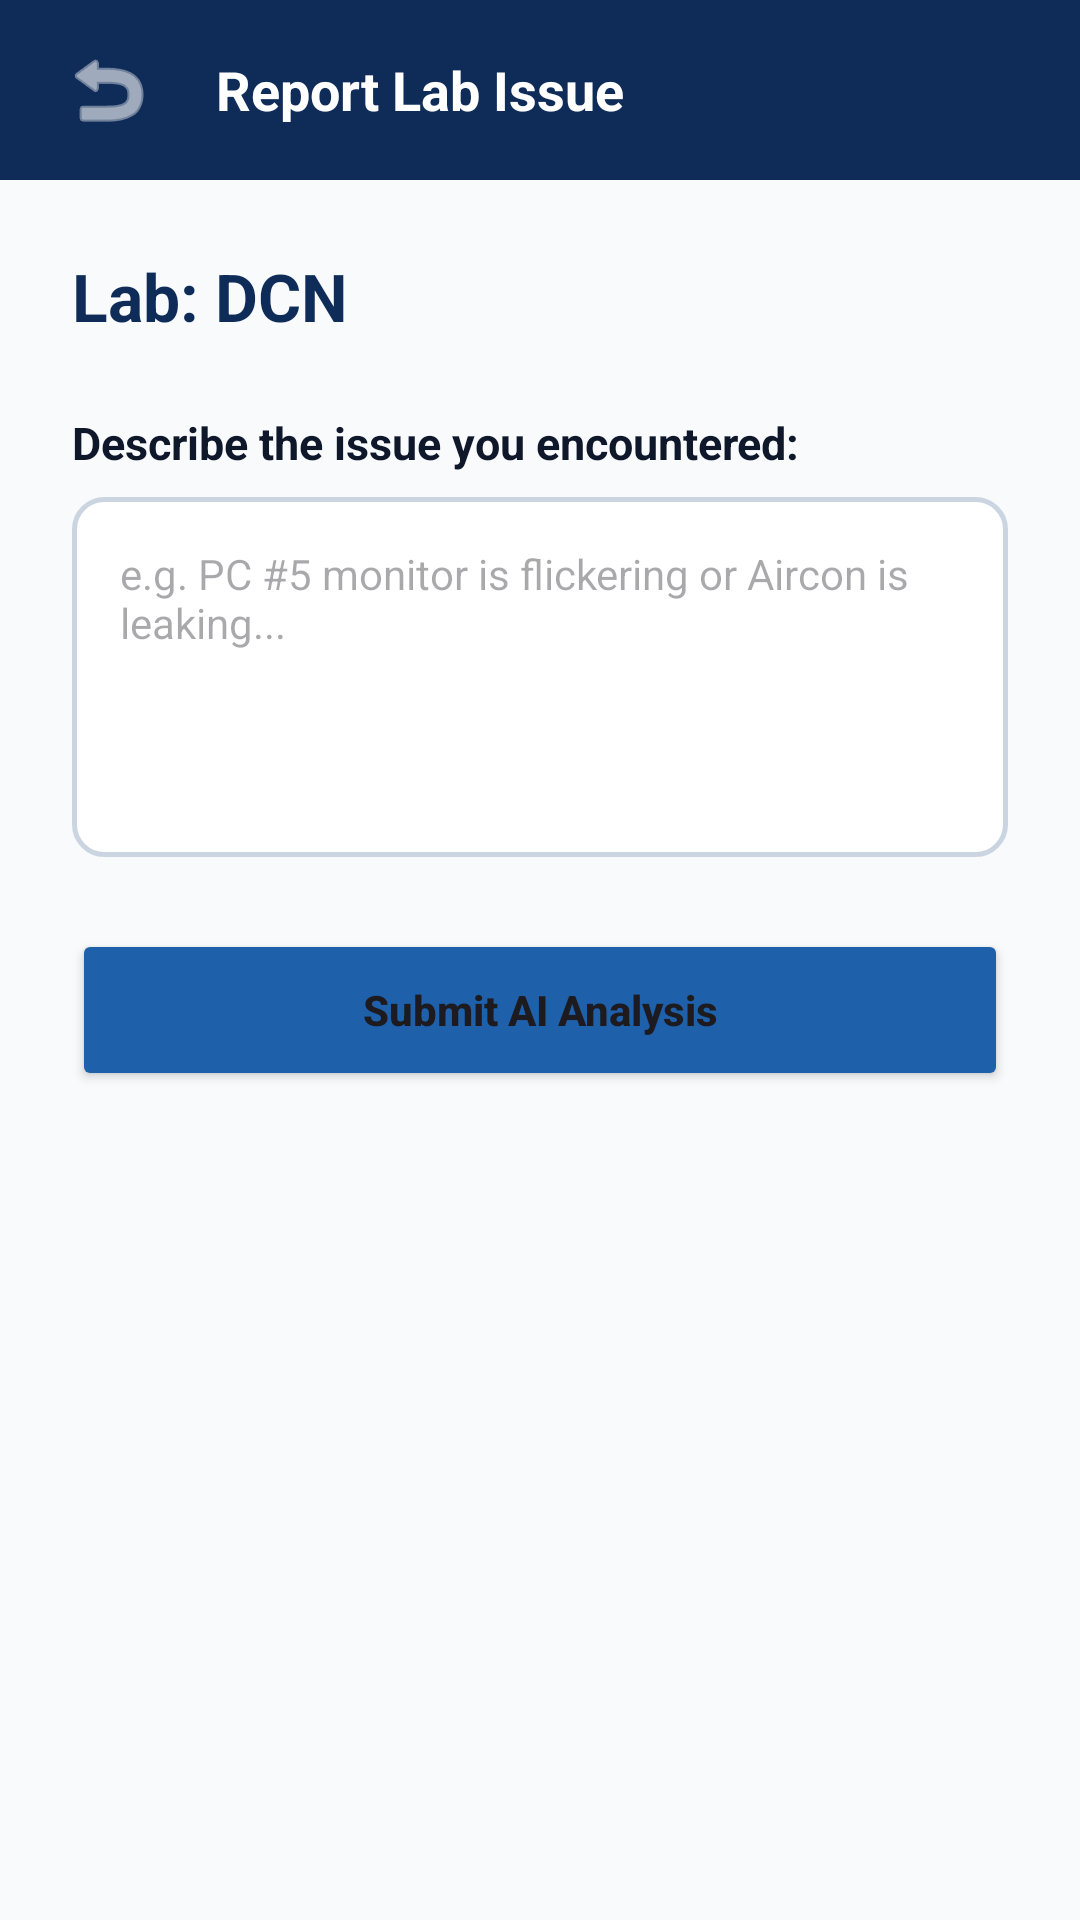

Locate icon controls on the screen. Image size 1080×1920, boxes as {"left": x1, "top": y1, "right": x2, "bottom": y2}.
Back: {"left": 75, "top": 59, "right": 144, "bottom": 122}
